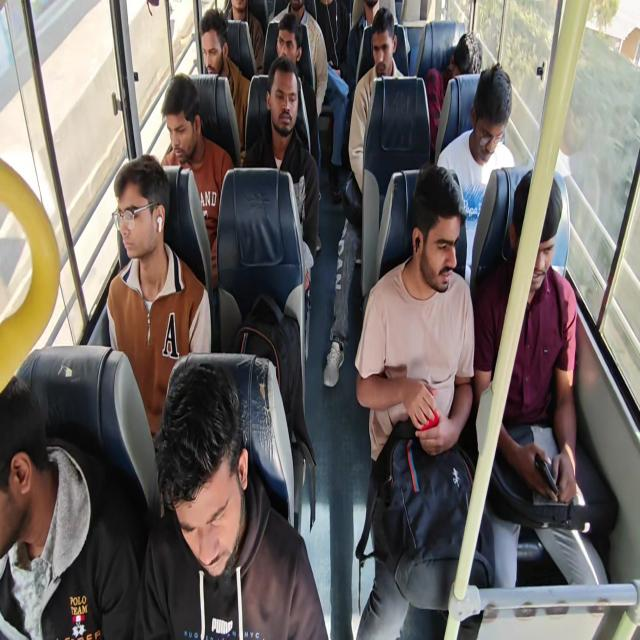person: (149, 362, 320, 577), (0, 383, 60, 640), (422, 182, 508, 341), (504, 189, 584, 306), (111, 170, 172, 268), (480, 77, 542, 164), (152, 85, 210, 158), (450, 25, 506, 98), (318, 5, 348, 100), (260, 18, 300, 82), (377, 10, 410, 74), (198, 7, 228, 62), (266, 66, 286, 132), (273, 0, 313, 24), (362, 0, 393, 30), (227, 0, 250, 22)
